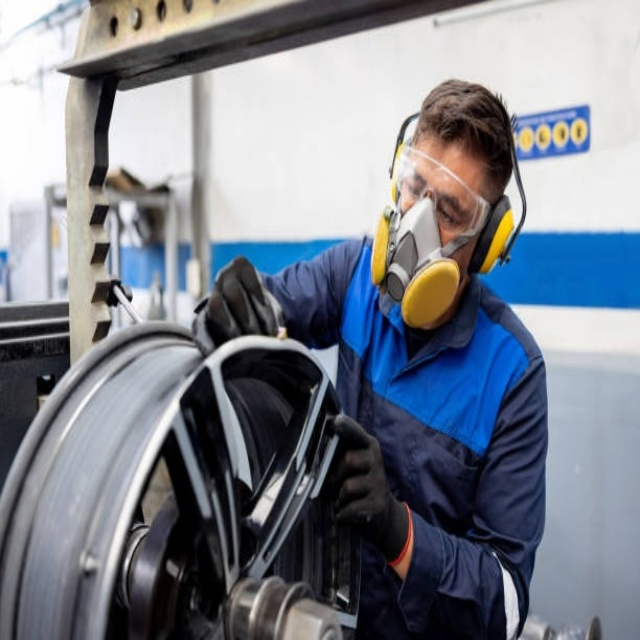Gafas: (394, 140, 495, 241)
Guantes: (327, 418, 408, 561), (194, 256, 287, 354)
Mascara: (372, 185, 462, 333)
